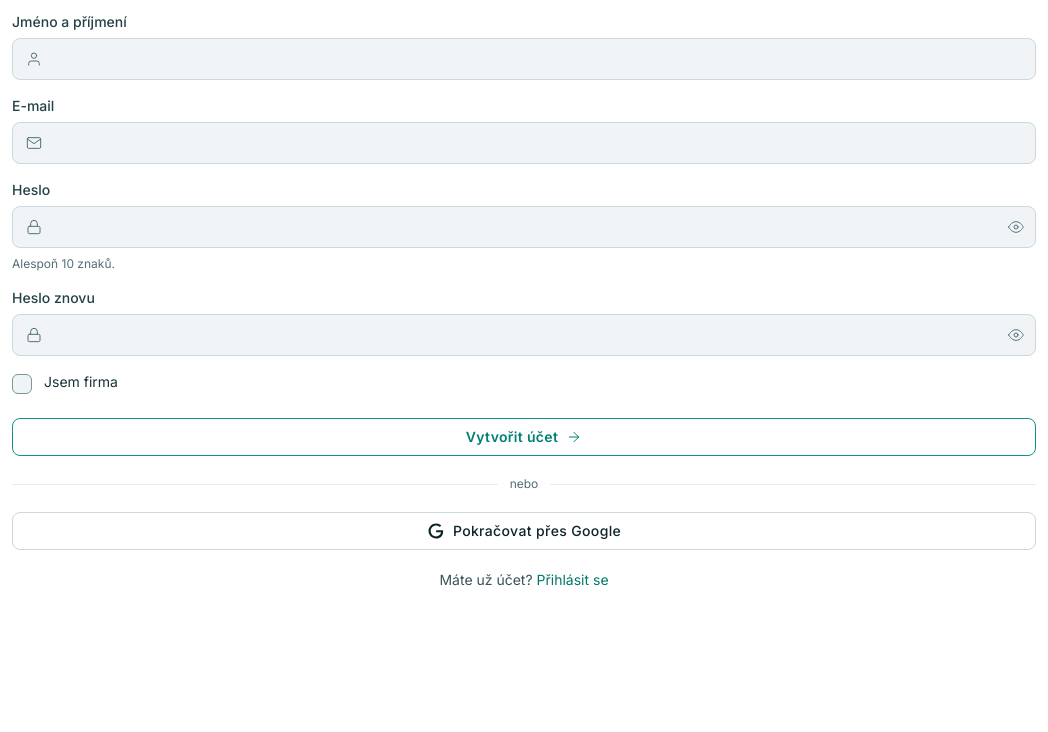
it: RegisterForm — Jsem firma (T-0162) › maps user.companyDissolved submit reject to its Czech copy (QA fold F-2)
Click the checkbox labelled "Jsem firma".
click(65, 384)  # box [12,373,118,394]
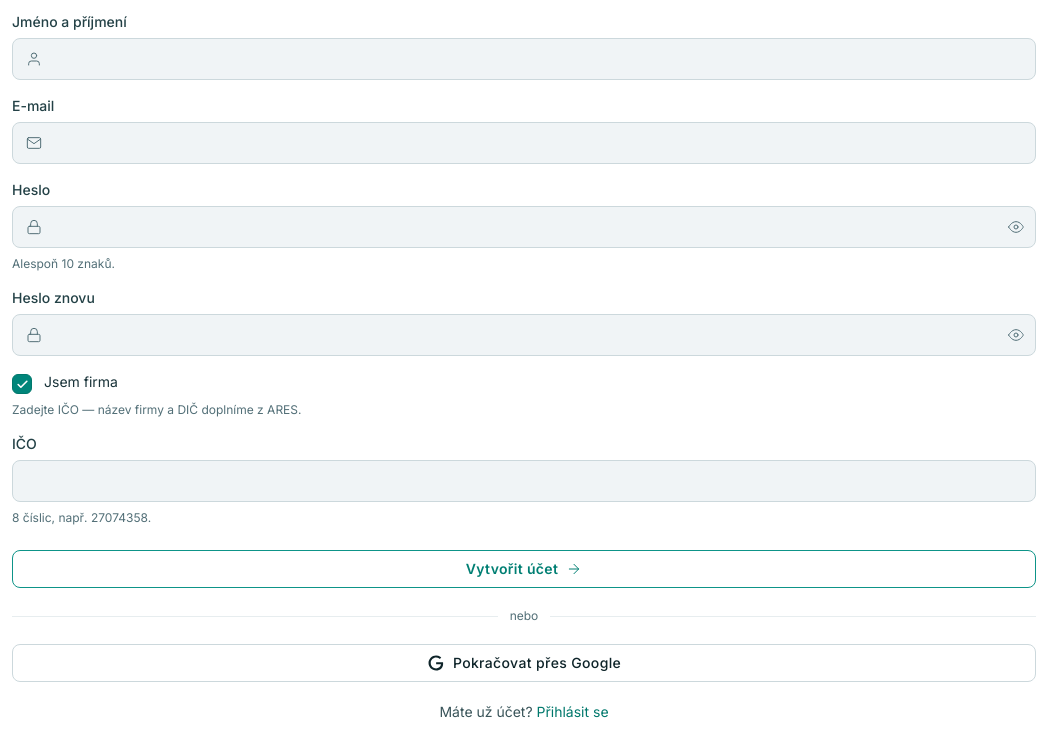
Type "Anna Nováková" into the field labelled "Jméno a příjmení".
click(524, 59); type("Anna Nováková")  # box [12,38,1036,80]
Type "anna@example.cz" into the field labelled "E-mail".
click(524, 143); type("anna@example.cz")  # box [12,122,1036,164]
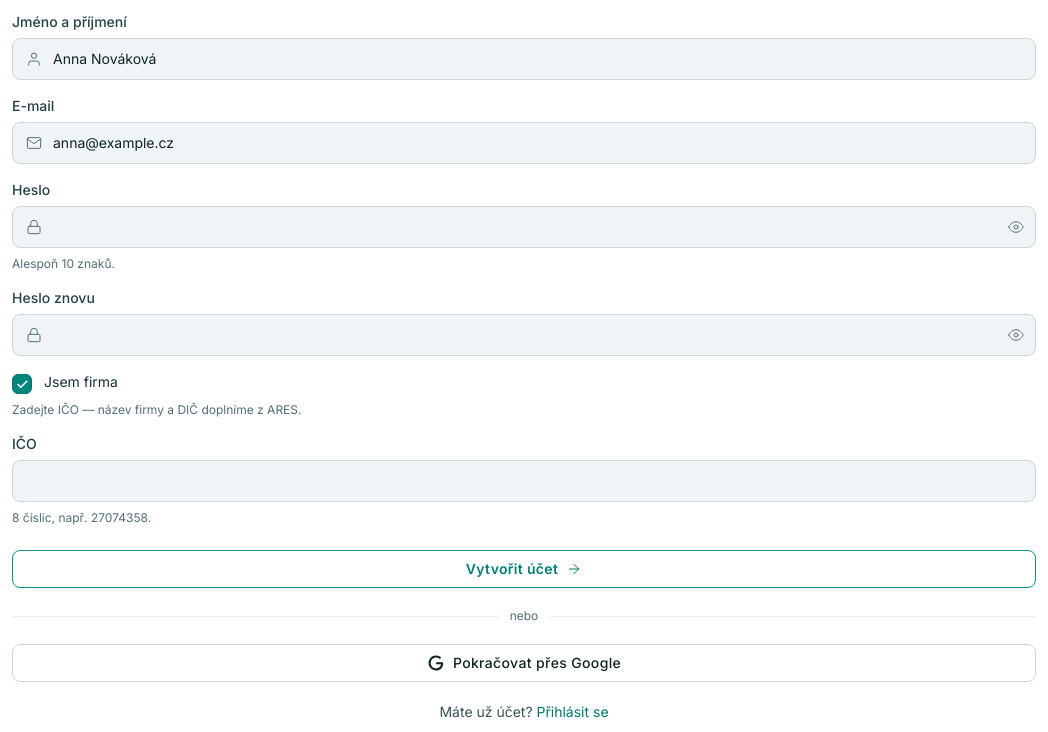
Type "abcd1234567" into the password field labelled "Heslo".
click(524, 227); type("abcd1234567")  # box [12,206,1036,248]
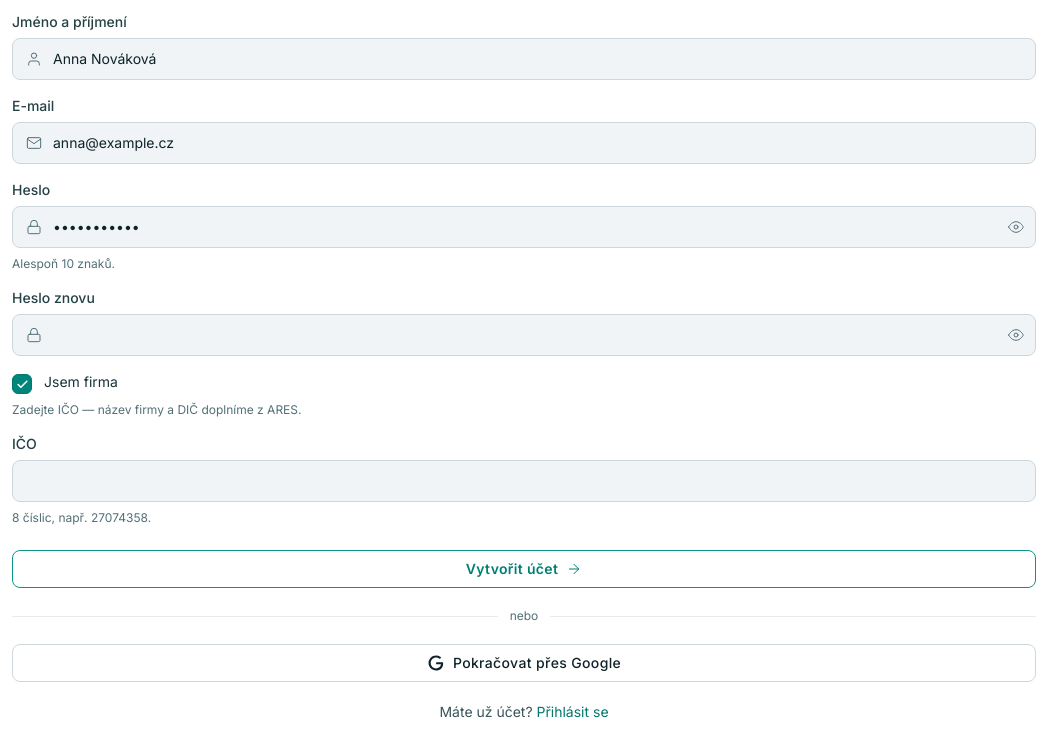
Type "abcd1234567" into the password field labelled "Heslo znovu".
click(524, 335); type("abcd1234567")  # box [12,314,1036,356]
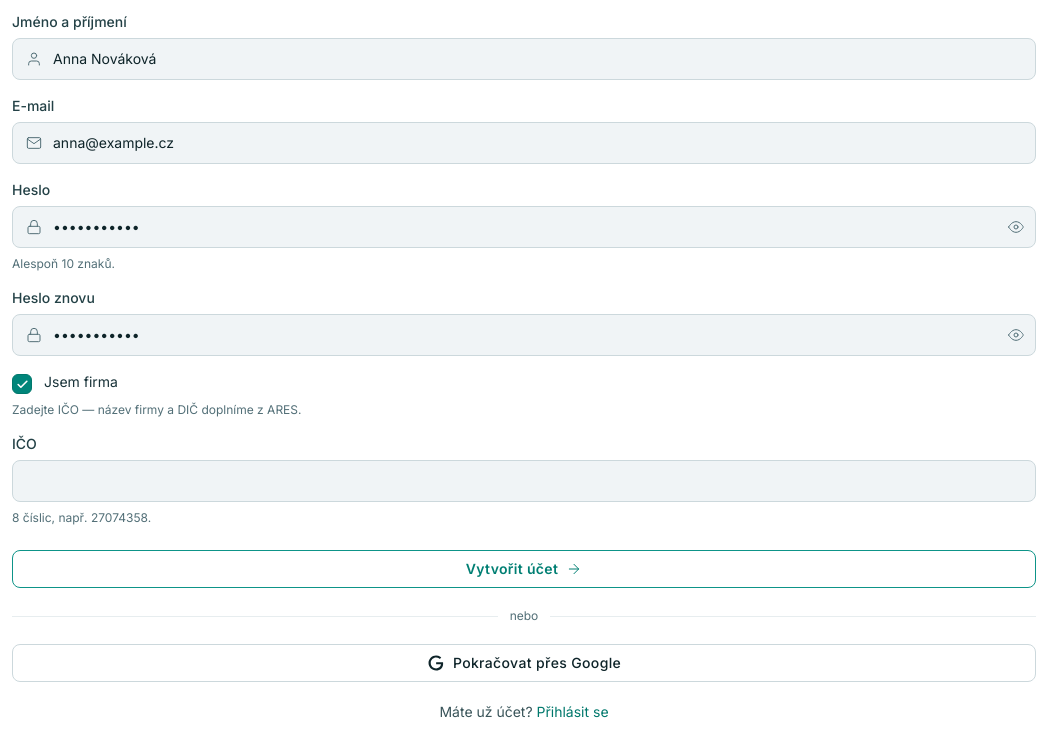
Type "27074358" into the field labelled "IČO".
click(524, 481); type("27074358")  # box [12,460,1036,502]
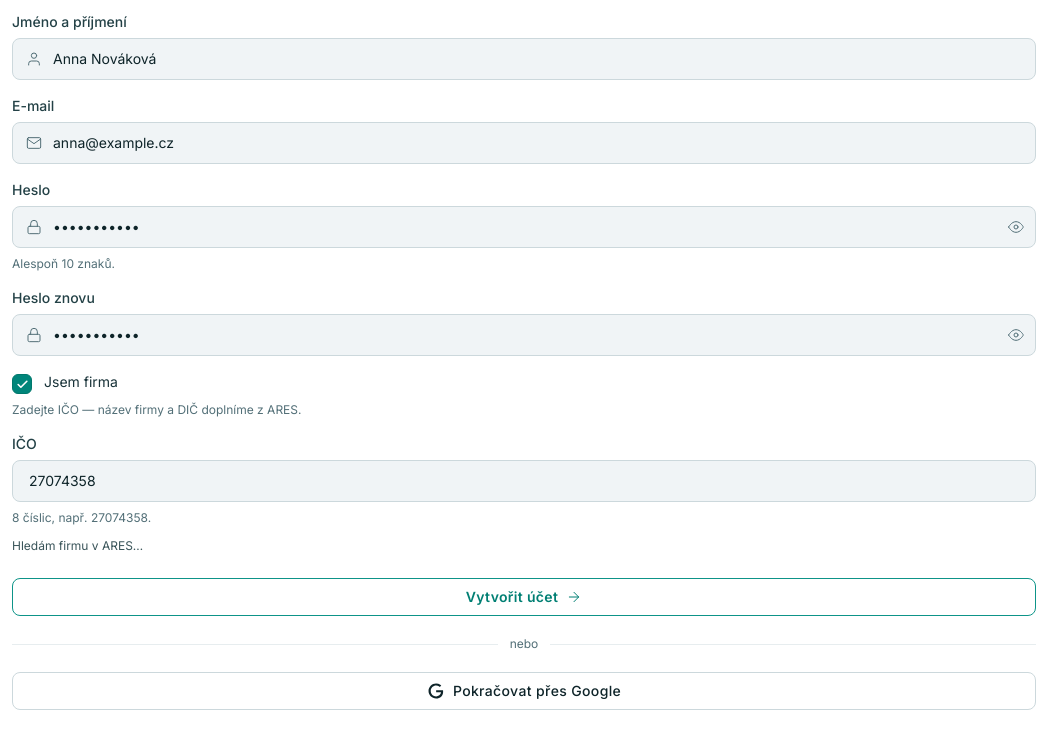
Click the button "Vytvořit účet".
click(524, 597)  # box [12,578,1036,616]
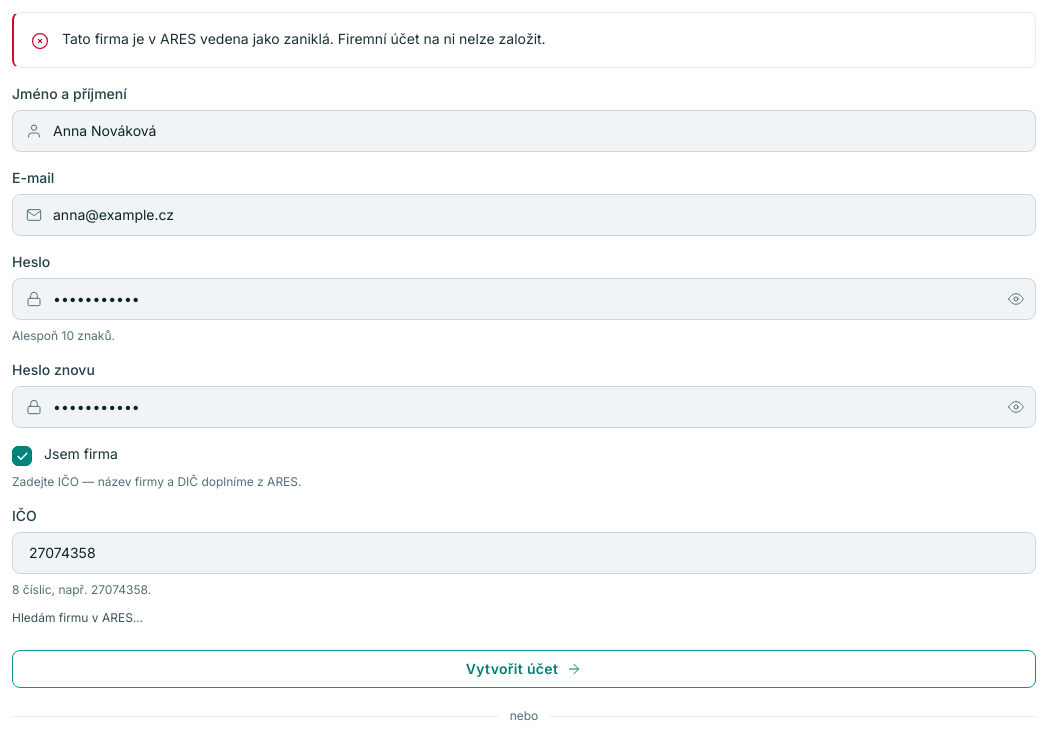
Expected: the text "Tato firma je v ARES vedena jako zaniklá. Firemní účet na ni nelze založit." is shown, [62,29,546,49]
